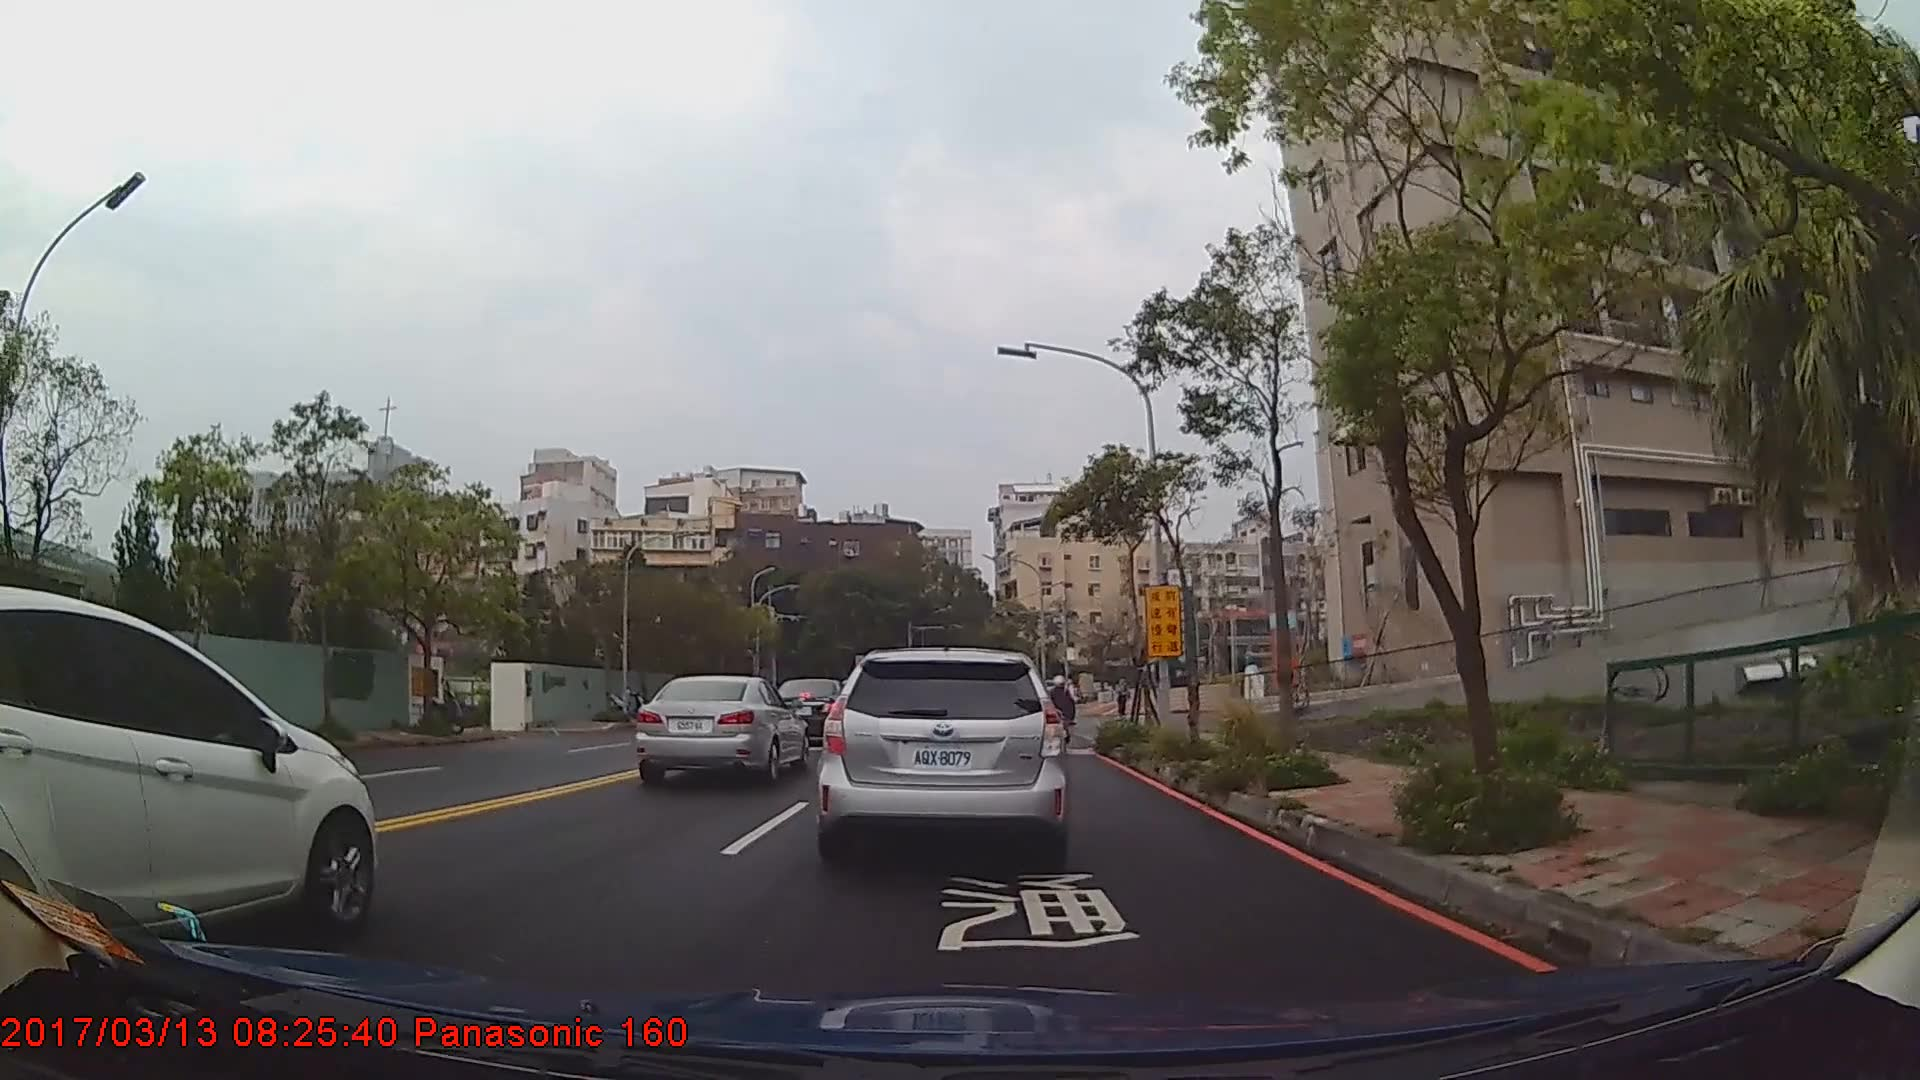rider: (1046, 675, 1077, 750)
vehicle: (0, 583, 377, 962), (818, 643, 1069, 862), (636, 673, 808, 787), (774, 674, 858, 742)
